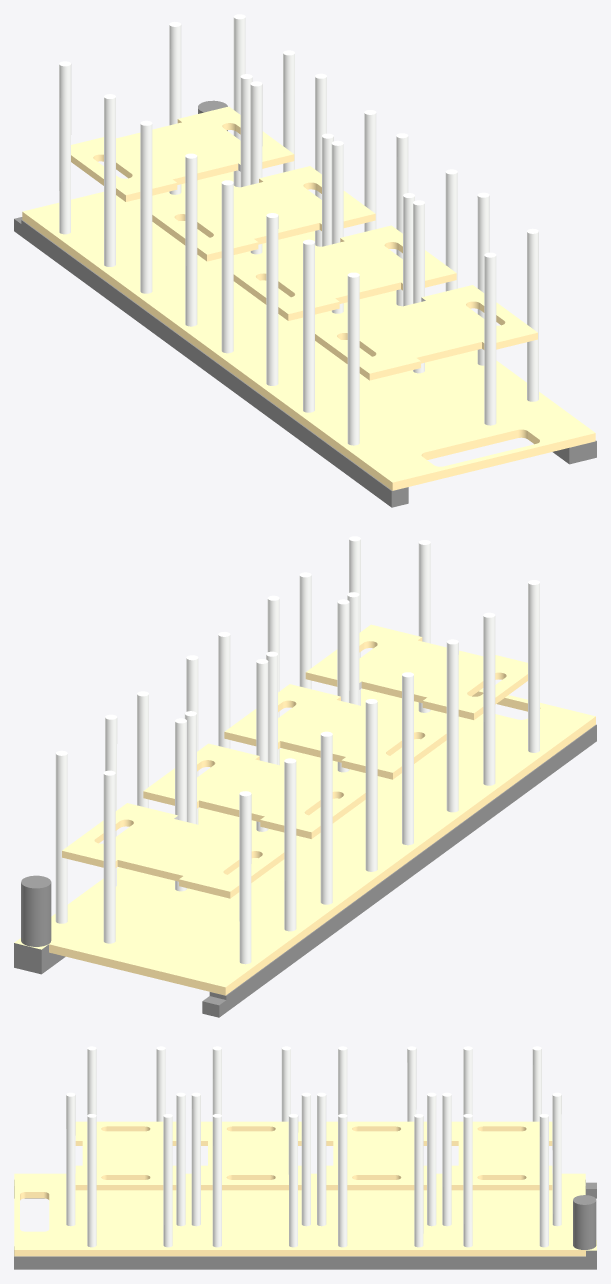
The model's file is PLT_CAR_L4ST_HIGH.gltf.
The picture shows the model from 3 angles, top to bottom: view 1: azimuth 30°, elevation 25°; view 2: azimuth 150°, elevation 25°; view 3: azimuth 270°, elevation 25°; orthographic projection. The views are drawn at different scales.
Parts seen in each view (by area): view 1: Poly_Geom_Data, Frm149, Frm155; view 2: Poly_Geom_Data, Frm149, Frm155; view 3: Poly_Geom_Data, Frm149, Frm155.
Part boxes in pixels (box(x1,y1,x2,y2)): Poly_Geom_Data: box(22, 106, 595, 490); Frm149: box(59, 14, 538, 445); Frm155: box(14, 100, 596, 507); Poly_Geom_Data: box(14, 624, 595, 995); Frm149: box(55, 536, 539, 964); Frm155: box(14, 724, 596, 1017); Poly_Geom_Data: box(14, 1121, 596, 1256); Frm149: box(66, 1046, 561, 1247); Frm155: box(14, 1180, 596, 1269).
Size of the model in its own units: 156 by 140 by 497.
